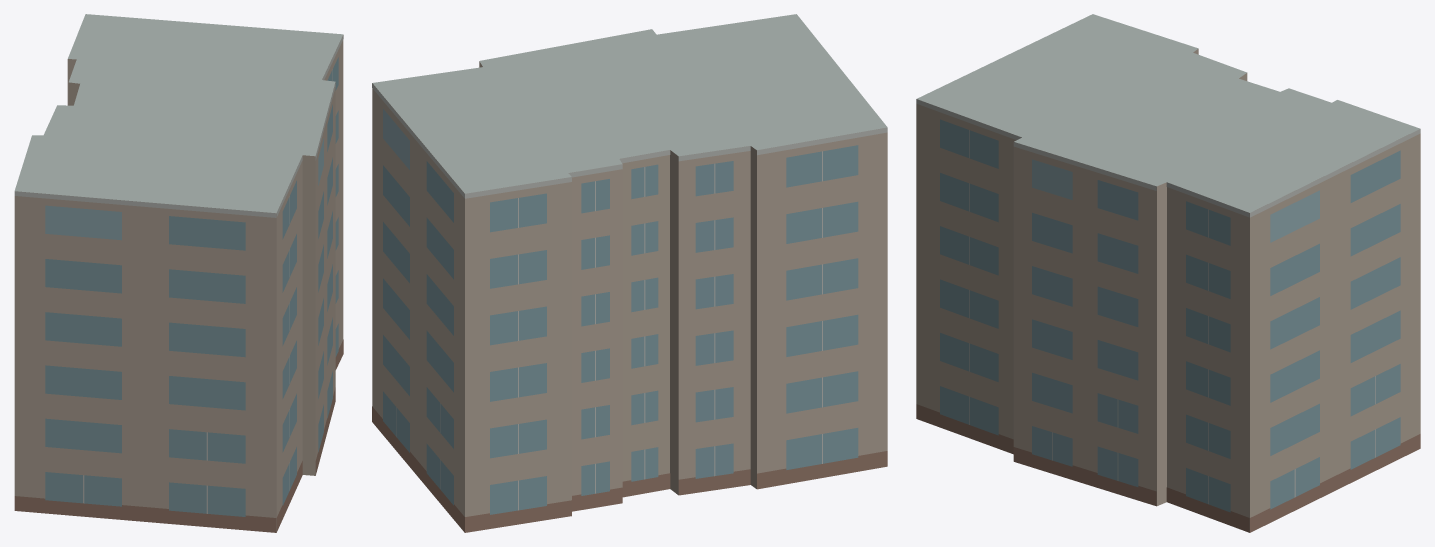
The model's file is survey-upis-32523024.glb.
3 views of the same model, side by side, from view 1: azimuth 30°, elevation 25°; view 2: azimuth 150°, elevation 25°; view 3: azimuth 270°, elevation 25° (orthographic). The views are drawn at different scales.
Visible parts, largest first — view 1: survey-upis-32523024.tmp; view 2: survey-upis-32523024.tmp; view 3: survey-upis-32523024.tmp.
Part boxes in pixels (x1=…): survey-upis-32523024.tmp: x1=14, y1=14, x2=343, y2=532; survey-upis-32523024.tmp: x1=372, y1=14, x2=887, y2=532; survey-upis-32523024.tmp: x1=916, y1=14, x2=1420, y2=532.
Bounding box in the file's own units: 22.08 × 16.55 × 23.64.
